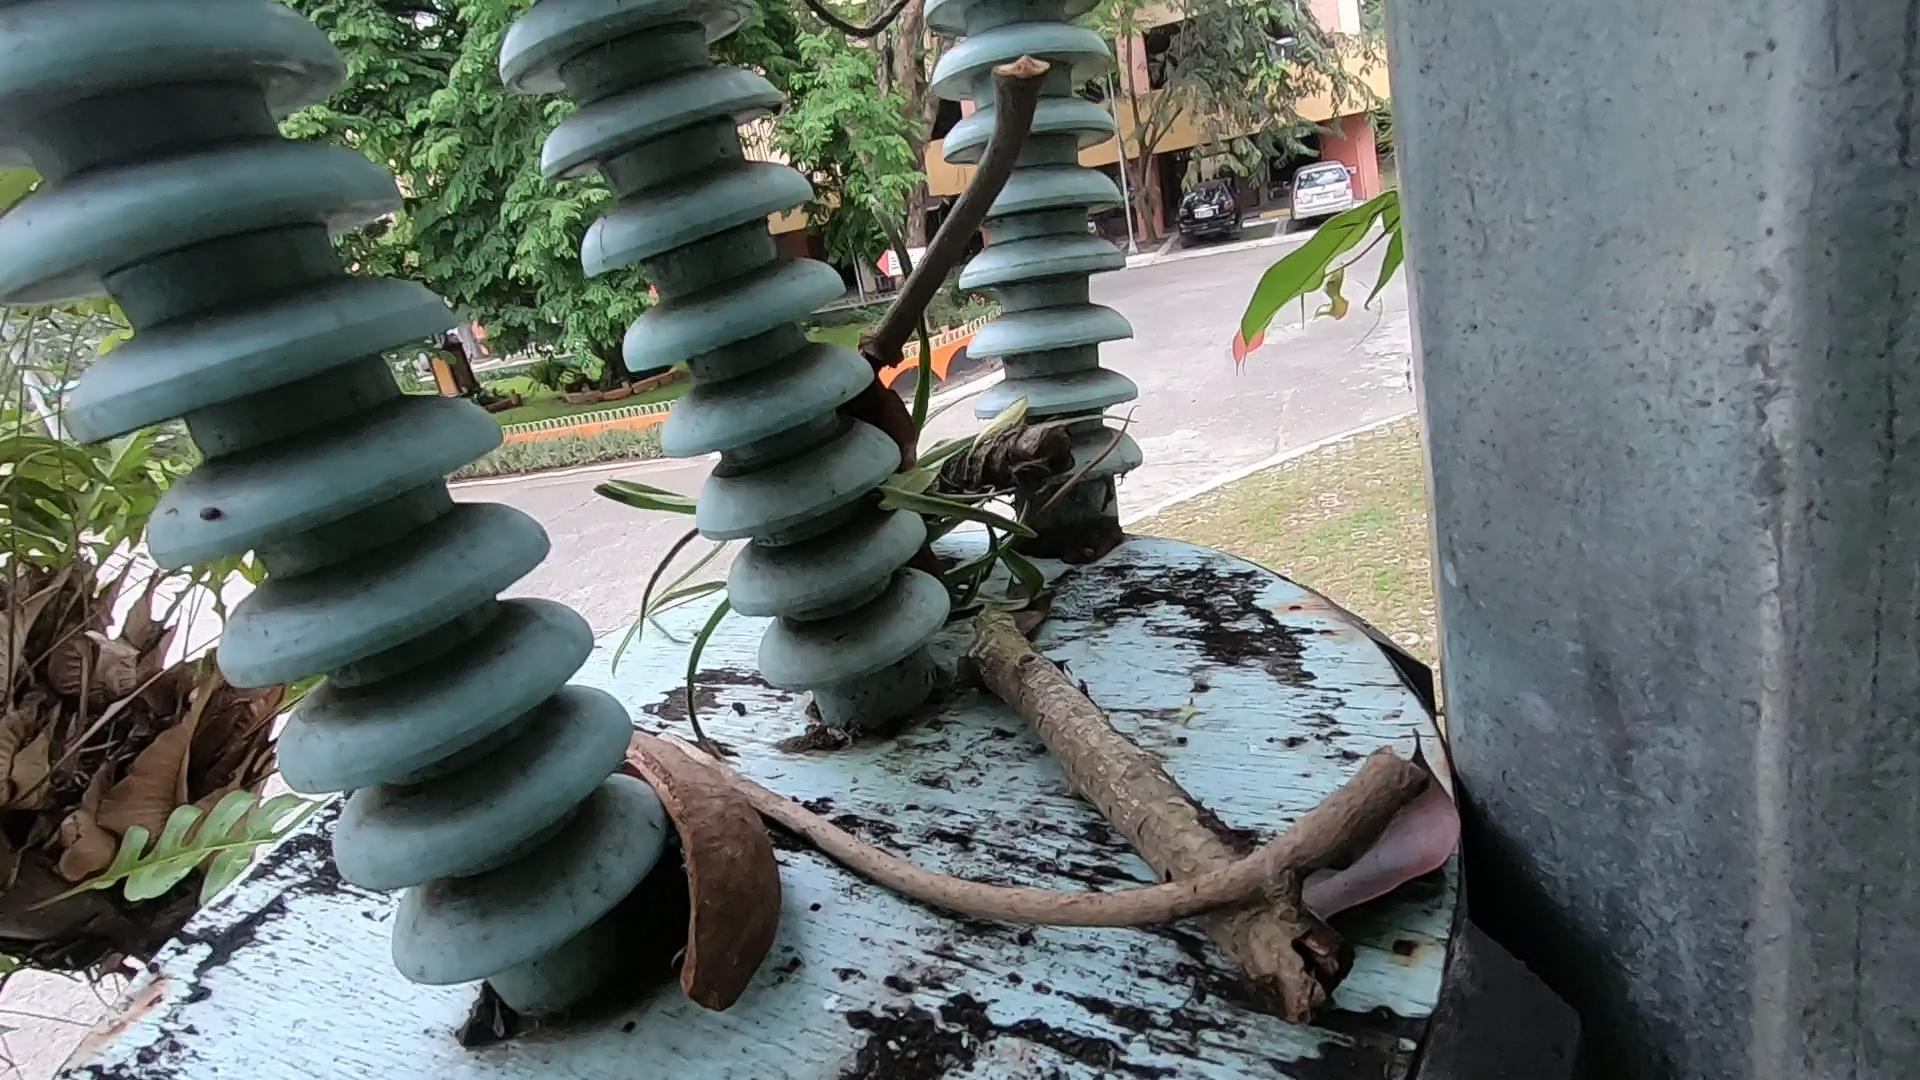branch with leaves: (845, 392, 1381, 963)
leaf: (1329, 723, 1476, 949)
mahogany fruit: (587, 749, 724, 975)
tree branch: (662, 713, 1437, 930), (862, 38, 1056, 398)
